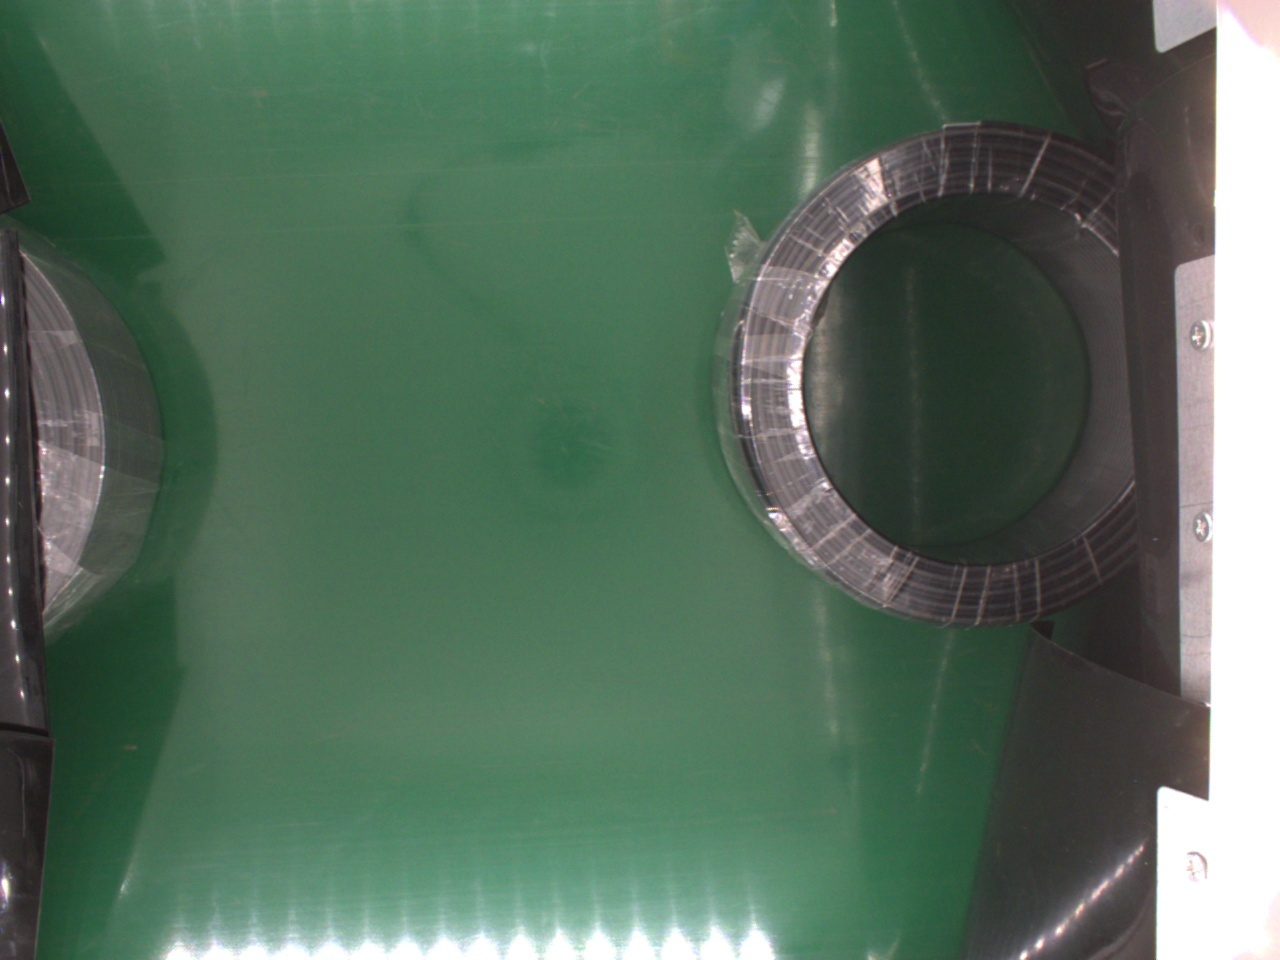black: (717, 121, 1164, 630), (17, 231, 163, 626)
